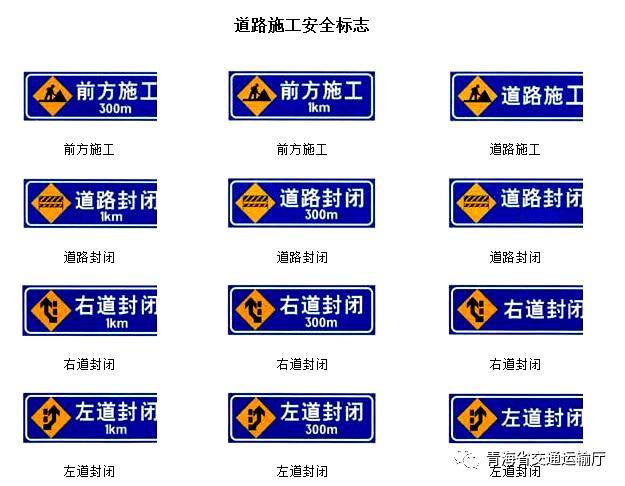sign: (228, 396, 375, 443), (24, 284, 158, 335), (24, 71, 161, 119), (229, 73, 374, 118), (24, 393, 157, 441), (228, 179, 373, 223), (229, 287, 373, 331), (22, 180, 159, 226), (449, 286, 583, 333), (450, 179, 584, 225), (452, 72, 584, 118), (451, 396, 583, 440)
